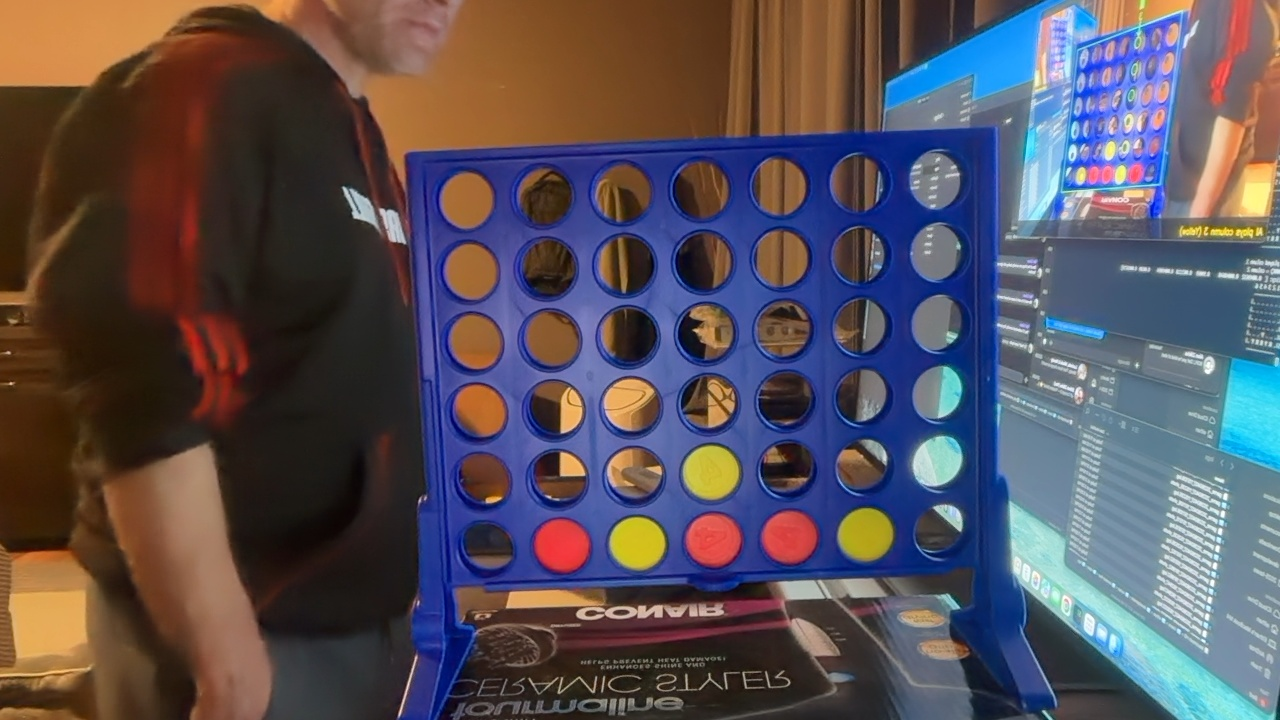red piece: (761, 510, 818, 565), (685, 513, 742, 568), (533, 519, 590, 573)
yellow piece: (681, 444, 741, 501), (609, 516, 666, 571), (837, 507, 894, 562)
